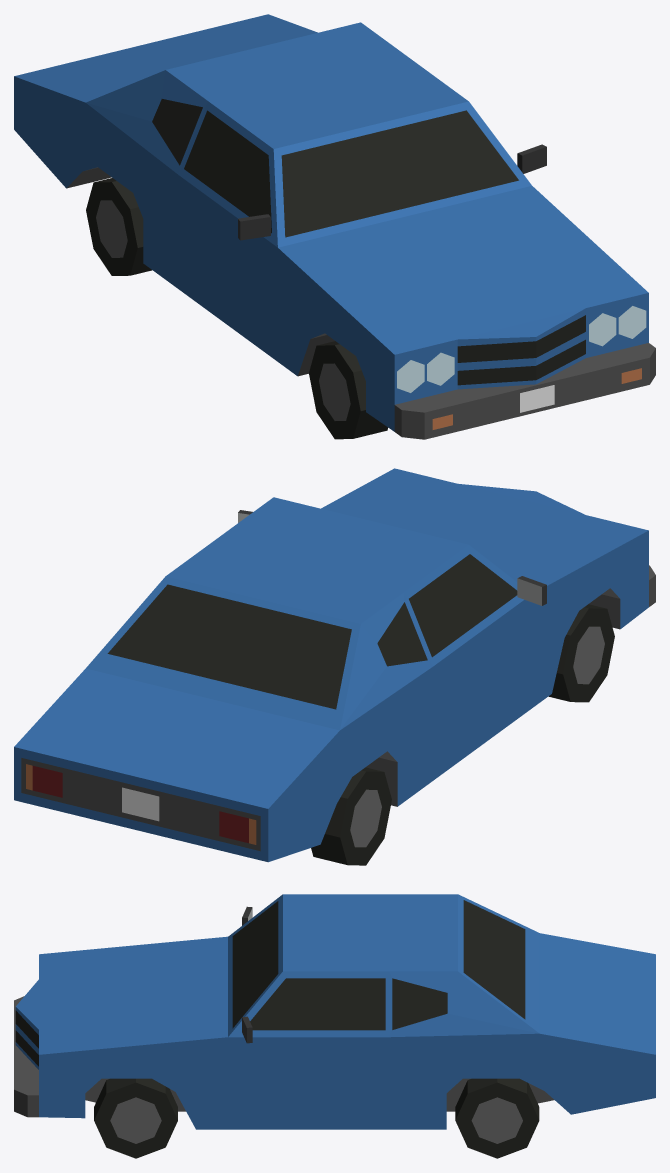
Rendered from Veh_Muscle_Car_02_Blue.obj.
3 renders of one model, top to bottom at view 1: azimuth 30°, elevation 25°; view 2: azimuth 150°, elevation 25°; view 3: azimuth 270°, elevation 25°, orthographic. The views are drawn at different scales.
Bounding box in the file's own units: 1.18 × 0.8001 × 2.65.
